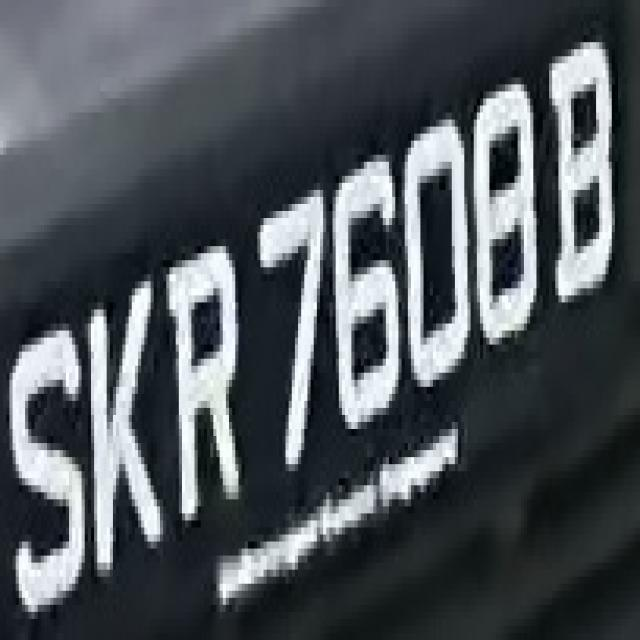0: (398, 112, 477, 401)
6: (323, 155, 408, 436)
7: (248, 183, 332, 471)
8: (464, 70, 536, 366)
B: (537, 28, 621, 310)
K: (82, 260, 163, 598)
R: (160, 225, 248, 535)
S: (6, 295, 88, 626)
